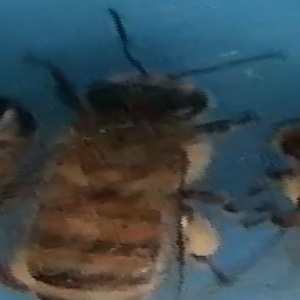bee: (32, 58, 252, 300)
